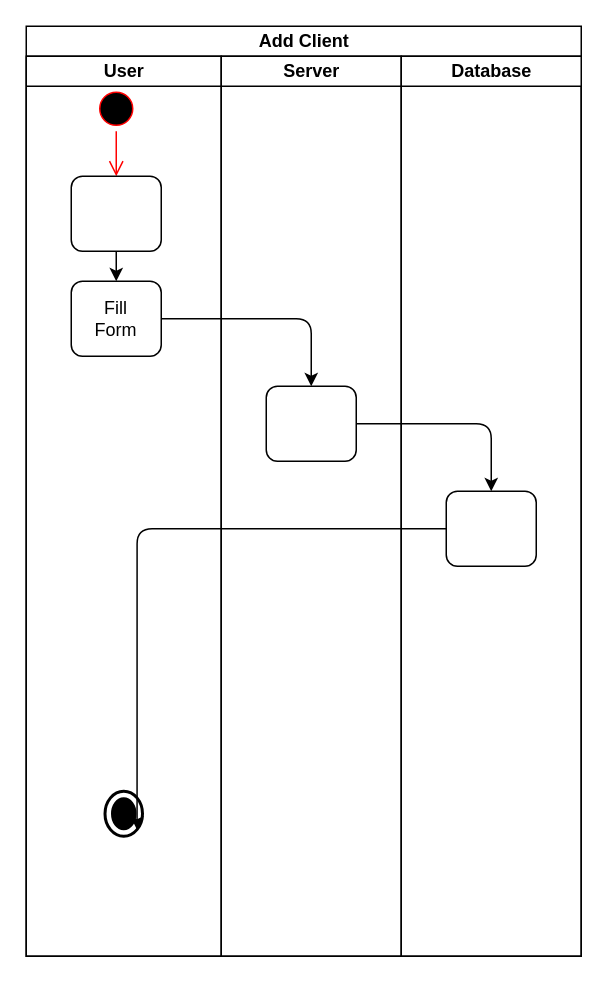
This 608x983 diagram has some shape labels left out. Each missing label, with the centre of its shape:
"Add Client Form" belongs at (115,213).
"Insert Client" belongs at (490,528).
"Validate Input" belongs at (310,423).
